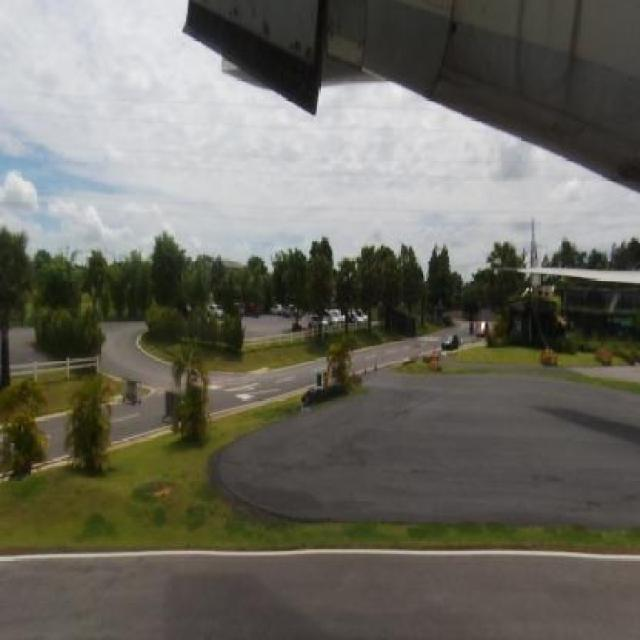Rust: (513, 0, 598, 134), (435, 4, 500, 116)
Scartch: (232, 3, 326, 65)
